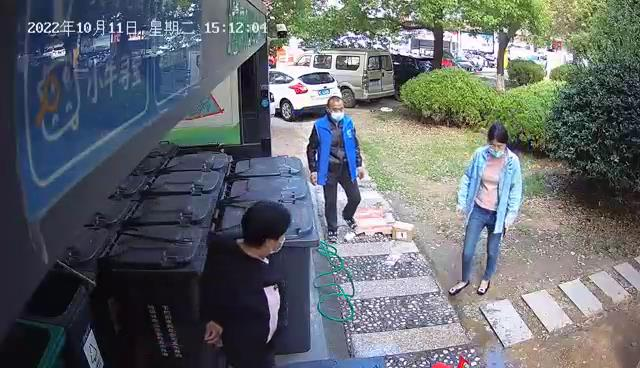person: (198, 199, 293, 368)
worker: (447, 122, 524, 297), (306, 95, 365, 243)
zhizhipin: (390, 219, 417, 242)
